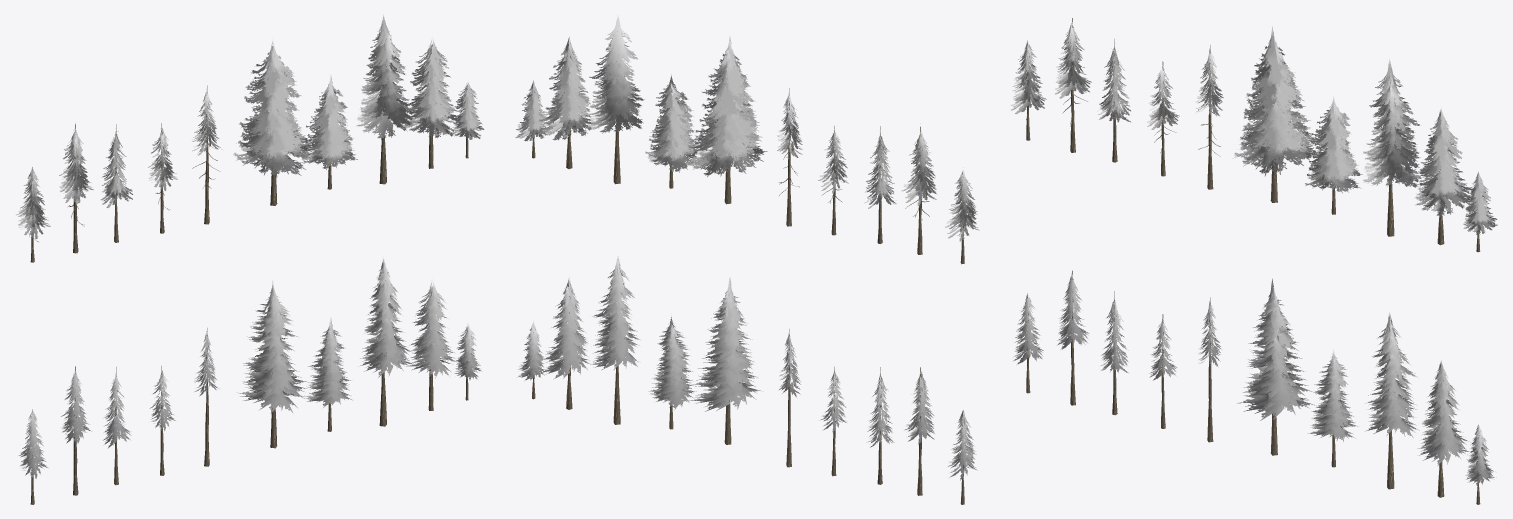
Rendered from New_Pine_1A1.fbx.
3 renders of one model, left to right at view 1: azimuth 30°, elevation 25°; view 2: azimuth 150°, elevation 25°; view 3: azimuth 330°, elevation 25°, orthographic. The views are drawn at different scales.
Parts seen in each view (by area): view 1: Pine_1B5, Pine_1B5_1, Pine_1B3, Pine_1B3_1, Pine_1B2, Pine_1B4, Pine_1B2_1, Pine_1B4_1, Pine_1A2, Pine_1A3, Pine_1A2_1, Pine_1A1 (+8 smaller); view 2: Pine_1B5, Pine_1B5_1, Pine_1B3, Pine_1B2, Pine_1B3_1, Pine_1B4, Pine_1B2_1, Pine_1B4_1, Pine_1A2, Pine_1A3, Pine_1A1, Pine_1A2_1 (+8 smaller); view 3: Pine_1B5, Pine_1B5_1, Pine_1B3, Pine_1B3_1, Pine_1B2, Pine_1B4, Pine_1B2_1, Pine_1B4_1, Pine_1A2, Pine_1A1, Pine_1A3, Pine_1A2_1 (+8 smaller).
Boxes of the visible parts, x1,y1,x2,y2 form: Pine_1B5: (233,38,311,205); Pine_1B5_1: (237,280,308,448); Pine_1B3: (356,14,417,184); Pine_1B3_1: (360,257,413,426); Pine_1B2: (403,38,459,168); Pine_1B4: (301,74,357,189); Pine_1B2_1: (406,280,456,410); Pine_1B4_1: (304,317,352,431); Pine_1A2: (59,124,93,253); Pine_1A3: (100,124,132,242); Pine_1A2_1: (61,366,91,495); Pine_1A1: (15,167,50,262); Pine_1B5: (686,36,767,204); Pine_1B5_1: (688,277,760,444); Pine_1B3: (586,15,644,184); Pine_1B2: (538,37,593,168); Pine_1B3_1: (590,256,640,424); Pine_1B4: (645,74,697,188); Pine_1B2_1: (540,277,589,409); Pine_1B4_1: (648,317,696,429); Pine_1A2: (901,126,937,254); Pine_1A3: (864,126,896,243); Pine_1A1: (945,169,979,264); Pine_1A2_1: (904,367,934,495); Pine_1B5: (1233,26,1316,202); Pine_1B5_1: (1237,278,1316,455); Pine_1B3: (1363,59,1423,236); Pine_1B3_1: (1365,312,1419,489); Pine_1B2: (1414,108,1473,245); Pine_1B4: (1305,95,1362,214); Pine_1B2_1: (1417,360,1470,497); Pine_1B4_1: (1307,349,1357,467); Pine_1A2: (1055,18,1091,152); Pine_1A1: (1010,40,1046,140); Pine_1A3: (1098,39,1130,162); Pine_1A2_1: (1057,270,1089,405).
Size of the model in its own units: 10045 by 8609 by 1578.
